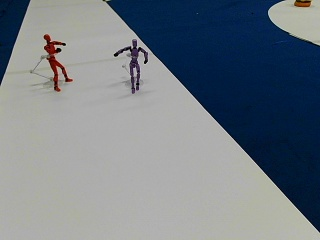pedestrian: (113, 39, 148, 91), (42, 33, 72, 91)
